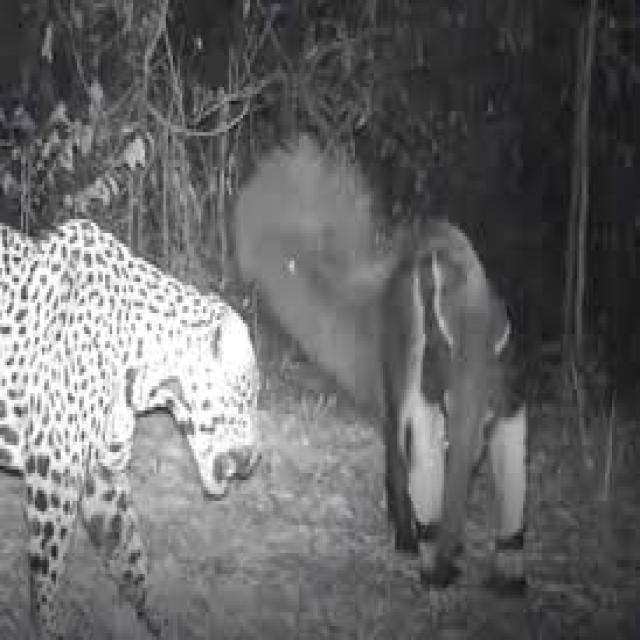Jaguar: (0, 198, 264, 598)
